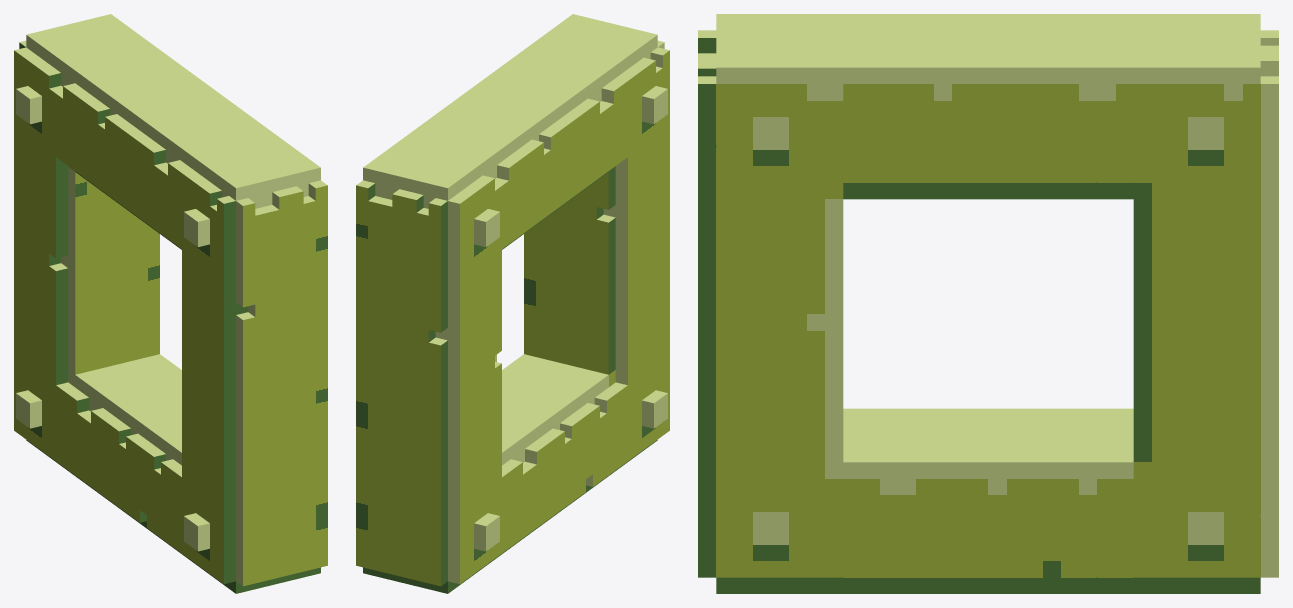
The model's file is sewer_big_mouthao.fezao.glb.
The picture shows the model from 3 angles, left to right: view 1: azimuth 30°, elevation 25°; view 2: azimuth 150°, elevation 25°; view 3: azimuth 270°, elevation 25°; orthographic projection. The views are drawn at different scales.
Visible parts, largest first — view 1: SEWER_BIG_MOUTHAO; view 2: SEWER_BIG_MOUTHAO; view 3: SEWER_BIG_MOUTHAO.
Part boxes in pixels (x1,y1,x2,y2): SEWER_BIG_MOUTHAO: [14, 14, 327, 593]; SEWER_BIG_MOUTHAO: [356, 14, 669, 593]; SEWER_BIG_MOUTHAO: [698, 14, 1278, 593].
Bounding box in the file's own units: 0.5625 × 2 × 2.
1 material, 1 textured.
